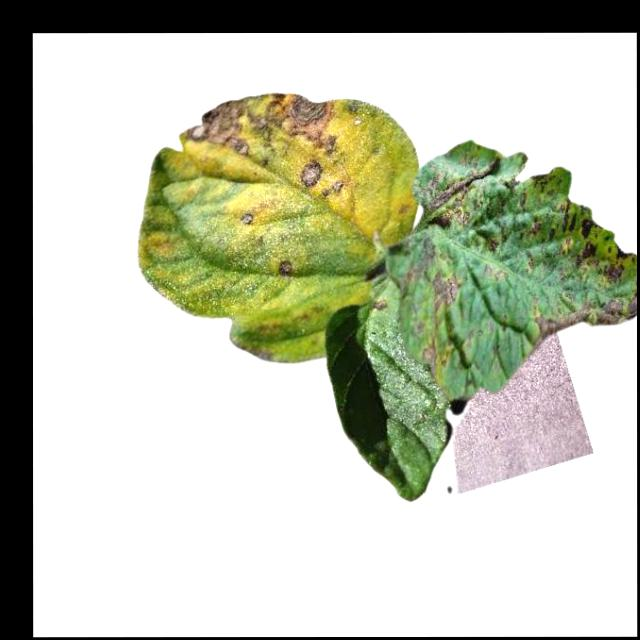Early_blight: (180, 91, 339, 159), (420, 157, 497, 228), (534, 295, 636, 348), (548, 198, 599, 267), (600, 246, 636, 287), (428, 272, 462, 310), (421, 339, 439, 376), (300, 159, 322, 185), (321, 180, 347, 198), (530, 169, 550, 191), (526, 214, 542, 236), (486, 234, 503, 253), (373, 292, 389, 312), (278, 257, 293, 276), (240, 210, 254, 225)
